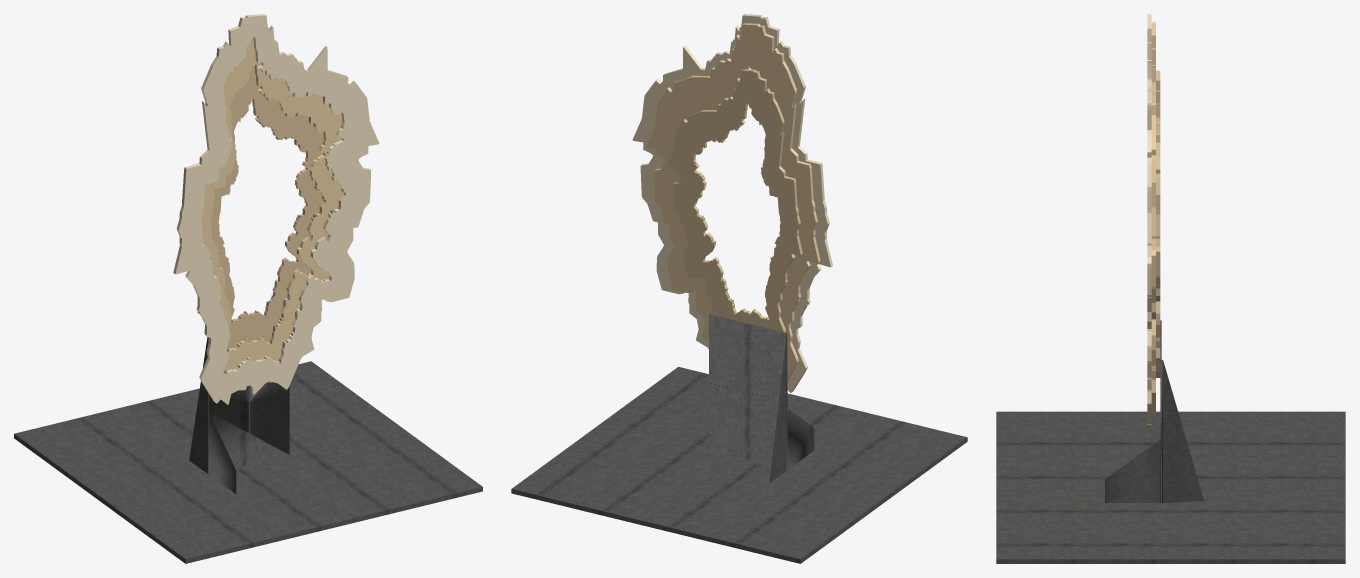
File: portal.glb
The picture shows the model from 3 angles, left to right: view 1: azimuth 30°, elevation 25°; view 2: azimuth 150°, elevation 25°; view 3: azimuth 270°, elevation 25°; orthographic projection. The views are drawn at different scales.
Parts seen in each view (by area): view 1: Group5, Group1.001, Group2, Group3, Model.001; view 2: Group5, Group2, Group3, Model.001, Group1.001; view 3: Group5, Model.001, Group1.001, Group2, Group3.
Boxes of the visible parts, x1=… form: Group5: x1=14, y1=361, x2=482, y2=563; Group1.001: x1=173, y1=14, x2=379, y2=404; Group2: x1=192, y1=39, x2=343, y2=371; Group3: x1=210, y1=66, x2=323, y2=348; Model.001: x1=189, y1=336, x2=289, y2=494; Group5: x1=511, y1=367, x2=967, y2=563; Group2: x1=647, y1=23, x2=820, y2=380; Group3: x1=667, y1=69, x2=802, y2=332; Model.001: x1=709, y1=314, x2=814, y2=483; Group1.001: x1=632, y1=14, x2=832, y2=392; Group5: x1=996, y1=411, x2=1345, y2=563; Model.001: x1=1105, y1=320, x2=1204, y2=503; Group1.001: x1=1147, y1=14, x2=1151, y2=424; Group2: x1=1151, y1=22, x2=1155, y2=414; Group3: x1=1156, y1=70, x2=1160, y2=377.
Bounding box in the file's own units: 26 × 38.41 × 26.
5 materials, 1 textured.
